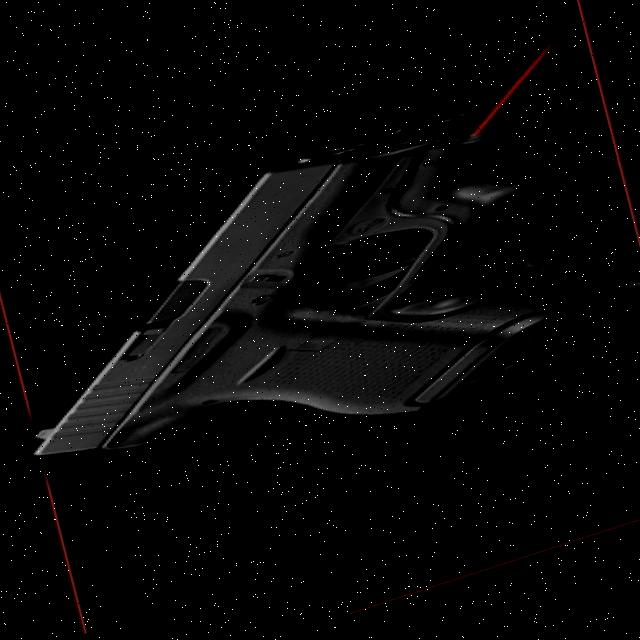pistol: (0, 87, 588, 536)
